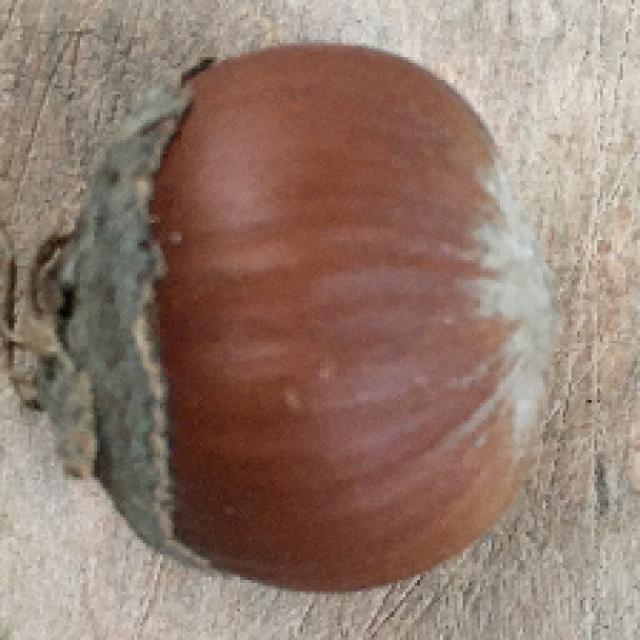damagedHazelnut: (30, 42, 556, 594)
